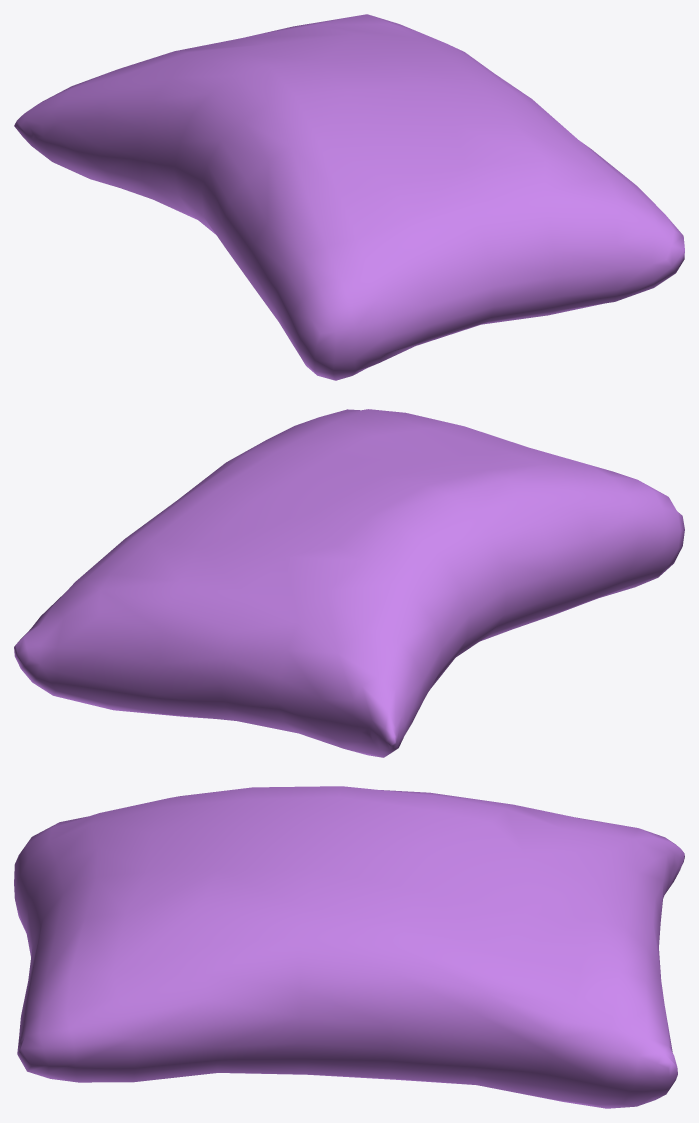
Rendered from sandbag.fbx.
3 renders of one model, top to bottom at view 1: azimuth 30°, elevation 25°; view 2: azimuth 150°, elevation 25°; view 3: azimuth 270°, elevation 25°, orthographic. The views are drawn at different scales.
Parts seen in each view (by area): view 1: Sandbag_10; view 2: Sandbag_10; view 3: Sandbag_10.
Boxes of the visible parts, x1=… form: Sandbag_10: x1=14, y1=14, x2=684, y2=380; Sandbag_10: x1=14, y1=409, x2=684, y2=757; Sandbag_10: x1=14, y1=786, x2=684, y2=1108.
Bounding box in the file's own units: 25.75 × 11.27 × 34.74.
